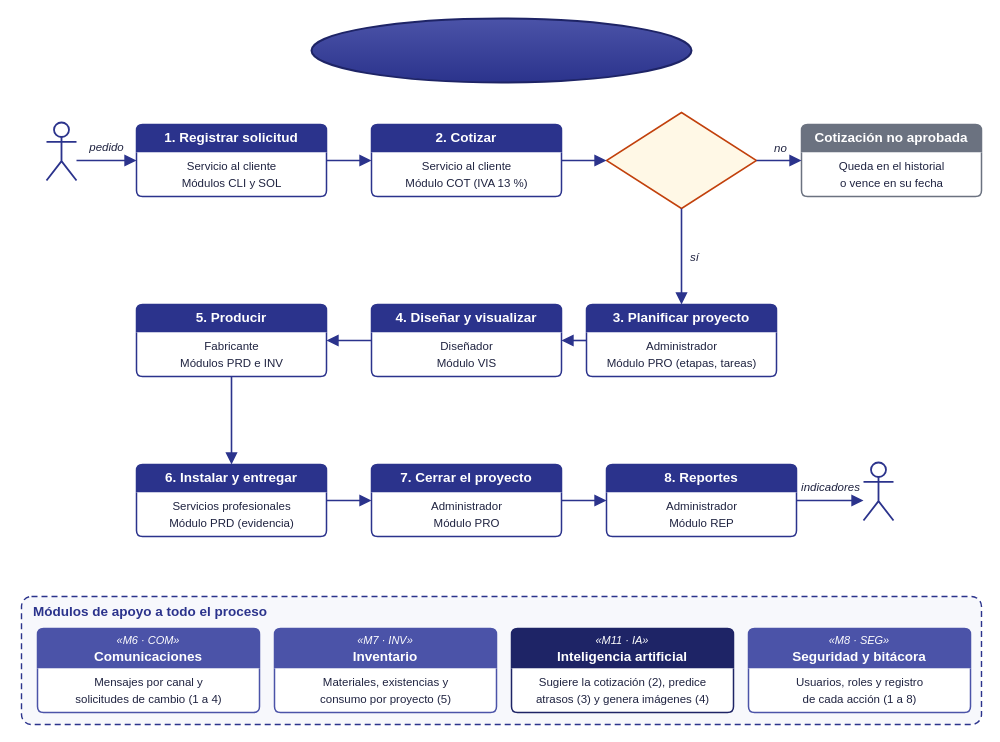
Some shapes in this 1000 by 742 pixel diagram are drawn without their labels. The centre of each missing label's shape, as x and y in pixels:
"Administrador decide con datos" goes at point 878,491.
"Cliente WhatsApp, correo o en persona" goes at point 61,151.
"SG Business Hub Diagrama general de procesos" goes at point 501,50.
"¿El cliente aprueba?" goes at point 681,160.
